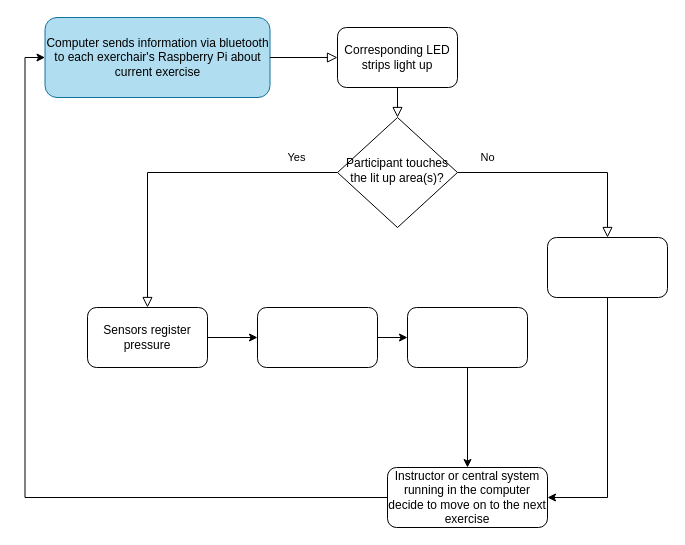
This 685x545 diagram has some shape labels left out. The centre of each missing label's shape, as x and y in pixels:
"Computer adds participants subtrack to whole symphony" goes at (x=467, y=337).
"Nothing happens for the duration of the exercise" goes at (x=607, y=267).
"Raspberry Pi's bluetooth module sends information to computer" goes at (x=317, y=337).
